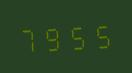five: (66, 19, 89, 51), (90, 18, 113, 50)
nine: (42, 21, 65, 52)
seven: (18, 22, 41, 54)
